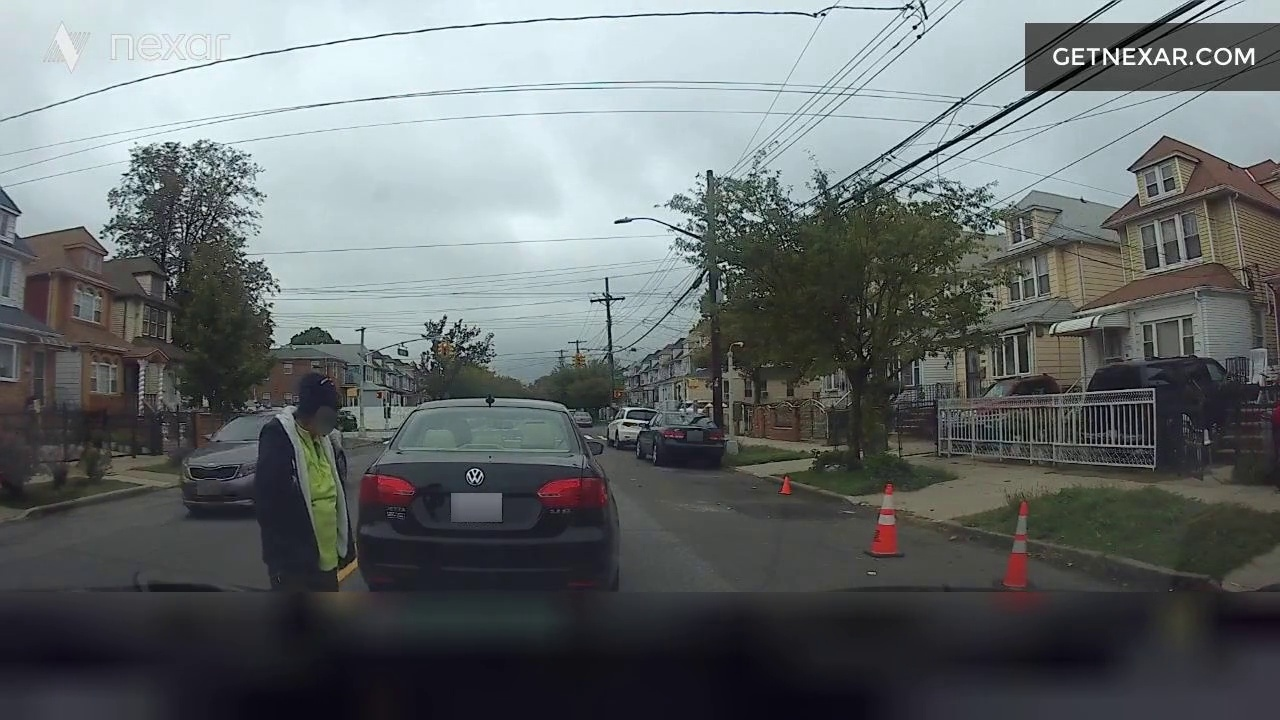car: (389, 369, 612, 582), (140, 367, 271, 520), (621, 380, 743, 515), (1074, 350, 1214, 454), (923, 358, 1049, 461)
person: (294, 367, 352, 622)
